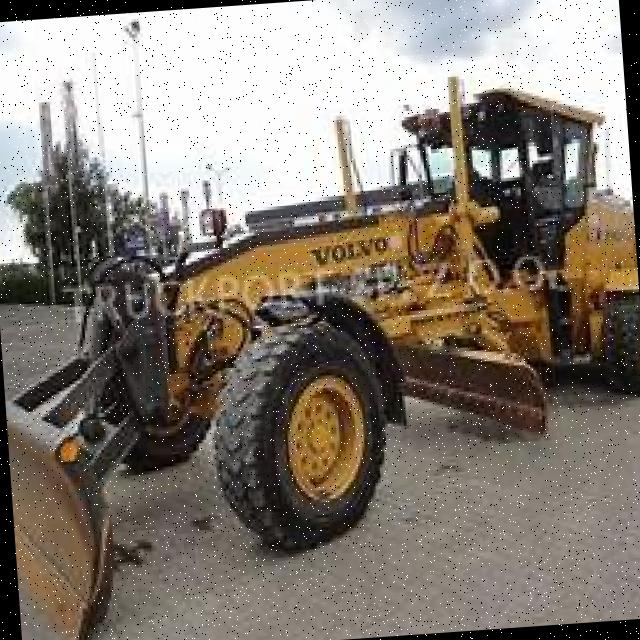Grader: (32, 49, 640, 578)
